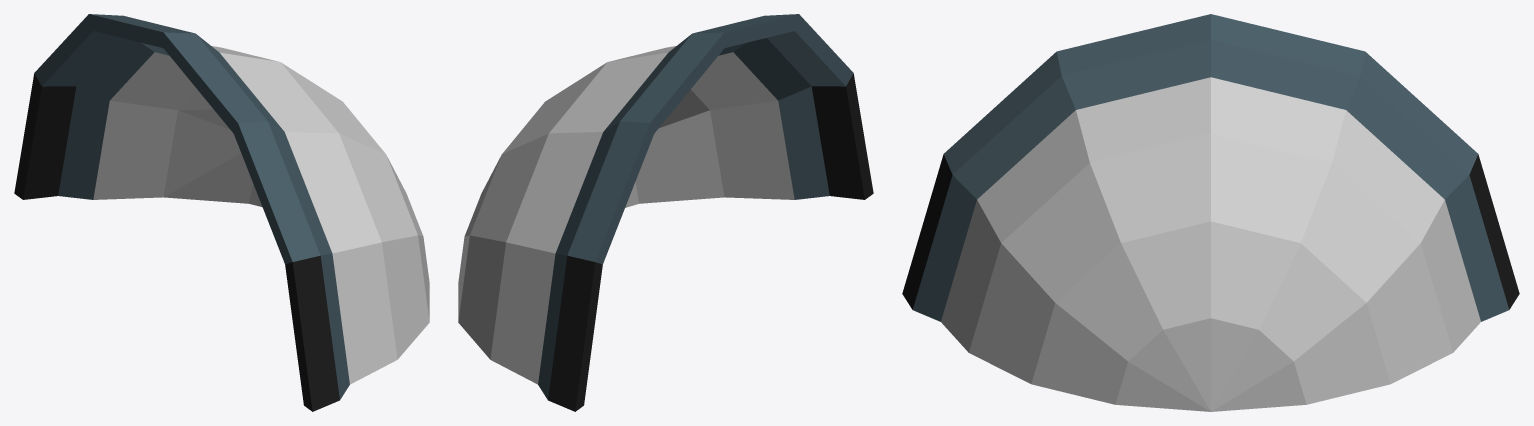
3 renders of one model, left to right at view 1: azimuth 30°, elevation 25°; view 2: azimuth 150°, elevation 25°; view 3: azimuth 270°, elevation 25°, orthographic. The views are drawn at different scales.
Parts seen in each view (by area): view 1: mesh_49569443, mesh_935409343, mesh_1953953503, mesh_1947641761, mesh_1855829683, mesh_844738532, mesh_722337887, mesh_1135472503, mesh_1595944235, mesh_2010098868, mesh_113890792, mesh_1157173959 (+10 smaller); view 2: mesh_935409343, mesh_49569443, mesh_475725935, mesh_2010098868, mesh_722337887, mesh_1772035836, mesh_1855829683, mesh_270265652, mesh_808698411, mesh_1947641761, mesh_1079994878, mesh_472383919 (+10 smaller); view 3: mesh_1462315595, mesh_1332349775, mesh_1157173959, mesh_472383919, mesh_270265652, mesh_1135472503, mesh_2010098868, mesh_1947641761, mesh_371880482, mesh_397345762, mesh_756404765, mesh_2071896772 (+24 smaller).
Part boxes in pixels (x1=…): mesh_49569443: x1=93, y1=100, x2=177, y2=199; mesh_935409343: x1=332, y1=242, x2=397, y2=384; mesh_1953953503: x1=285, y1=132, x2=381, y2=253; mesh_1947641761: x1=163, y1=110, x2=252, y2=203; mesh_1855829683: x1=285, y1=255, x2=339, y2=411; mesh_844738532: x1=233, y1=121, x2=320, y2=264; mesh_722337887: x1=14, y1=73, x2=76, y2=199; mesh_1135472503: x1=220, y1=52, x2=338, y2=133; mesh_1595944235: x1=163, y1=32, x2=267, y2=133; mesh_2010098868: x1=382, y1=235, x2=429, y2=359; mesh_113890792: x1=58, y1=86, x2=109, y2=199; mesh_1157173959: x1=339, y1=133, x2=417, y2=242; mesh_935409343: x1=710, y1=100, x2=794, y2=199; mesh_49569443: x1=490, y1=242, x2=555, y2=384; mesh_475725935: x1=506, y1=132, x2=602, y2=253; mesh_2010098868: x1=635, y1=110, x2=724, y2=203; mesh_722337887: x1=548, y1=255, x2=602, y2=411; mesh_1772035836: x1=567, y1=121, x2=654, y2=264; mesh_1855829683: x1=811, y1=73, x2=873, y2=199; mesh_270265652: x1=549, y1=52, x2=667, y2=133; mesh_808698411: x1=620, y1=32, x2=724, y2=133; mesh_1947641761: x1=458, y1=235, x2=505, y2=359; mesh_1079994878: x1=778, y1=86, x2=829, y2=199; mesh_472383919: x1=470, y1=133, x2=548, y2=242; mesh_1462315595: x1=1090, y1=133, x2=1210, y2=242; mesh_1332349775: x1=1211, y1=133, x2=1331, y2=242; mesh_1157173959: x1=1001, y1=163, x2=1120, y2=302; mesh_472383919: x1=1301, y1=163, x2=1420, y2=302; mesh_270265652: x1=1211, y1=77, x2=1345, y2=162; mesh_1135472503: x1=1076, y1=77, x2=1210, y2=162; mesh_2010098868: x1=969, y1=243, x2=1054, y2=383; mesh_1947641761: x1=1367, y1=243, x2=1452, y2=383; mesh_371880482: x1=1211, y1=221, x2=1300, y2=329; mesh_397345762: x1=1121, y1=221, x2=1210, y2=329; mesh_756404765: x1=1055, y1=243, x2=1162, y2=361; mesh_2071896772: x1=1259, y1=243, x2=1366, y2=361.
Bounding box in the file's own units: 38.5 × 42.98 × 85.
